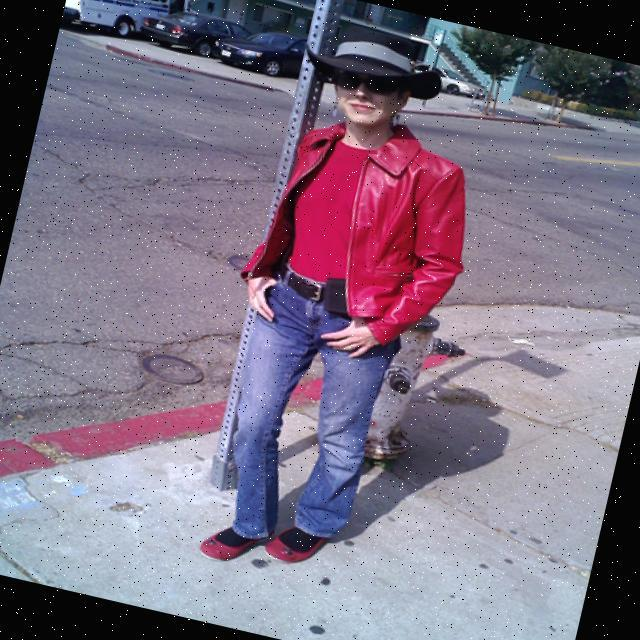fire_hydrant: (360, 307, 476, 473)
